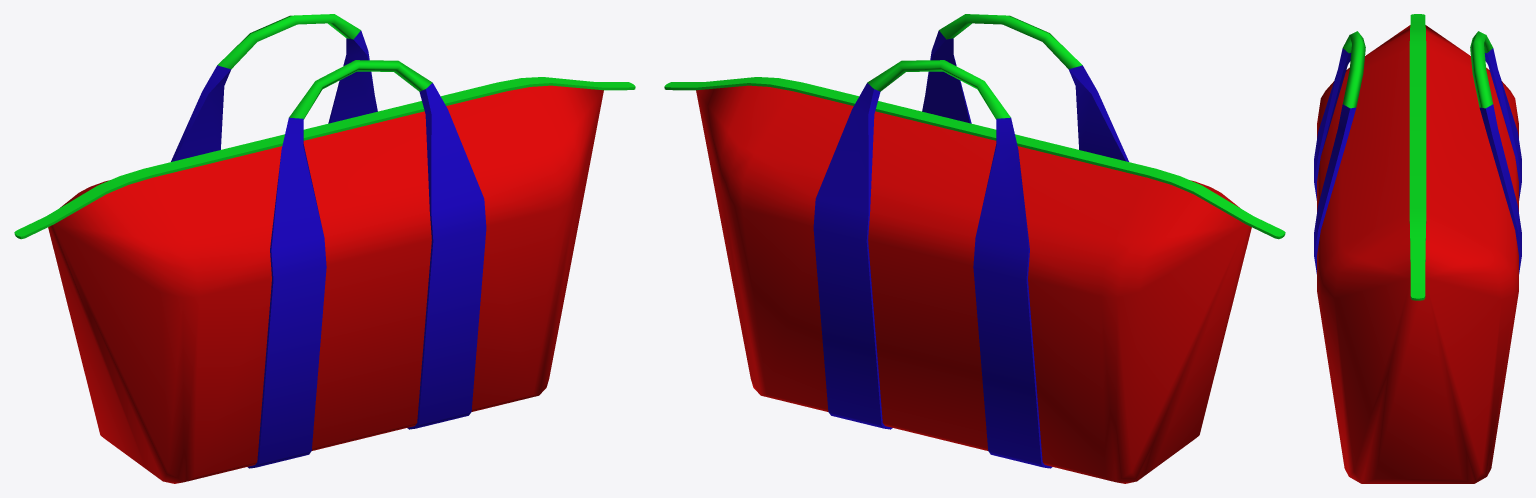
The model's file is Baggage.FBX.
3 renders of one model, left to right at view 1: azimuth 30°, elevation 25°; view 2: azimuth 150°, elevation 25°; view 3: azimuth 270°, elevation 25°, orthographic. The views are drawn at different scales.
Visible parts, largest first — view 1: Box001; view 2: Box001; view 3: Box001.
Boxes of the visible parts, x1,y1,x2,y2 form: Box001: (14,14,635,483); Box001: (664,14,1285,483); Box001: (1314,14,1521,483).
Size of the model in its own units: 0.7441 by 0.2296 by 0.4404.
